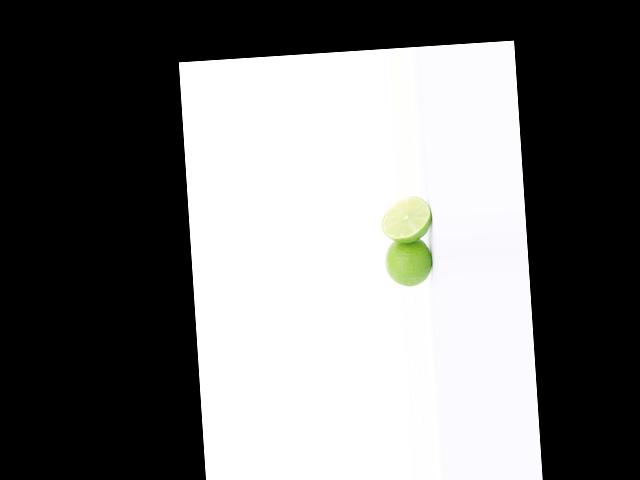lemon: (383, 237, 437, 289)
